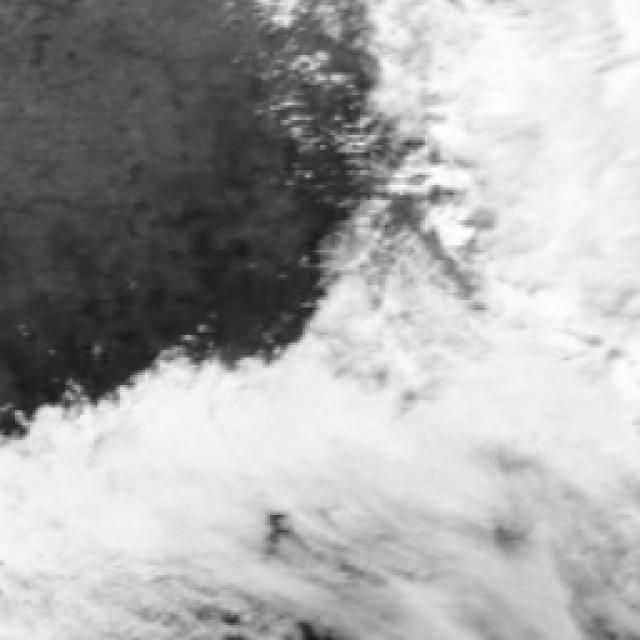CB: (517, 18, 626, 275), (118, 399, 394, 498)
